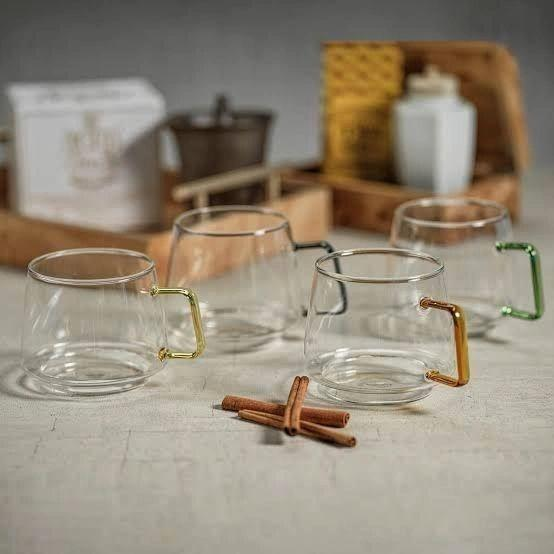glass-mug: (14, 243, 206, 402), (301, 244, 470, 405), (159, 205, 350, 343), (377, 195, 545, 344)
